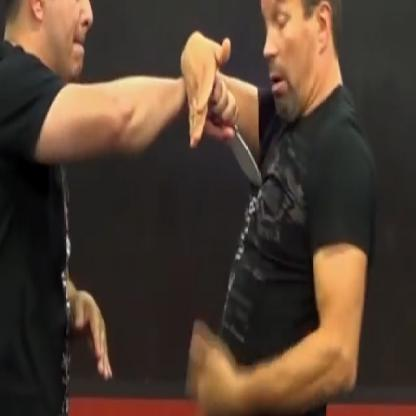knife: (200, 75, 262, 193)
